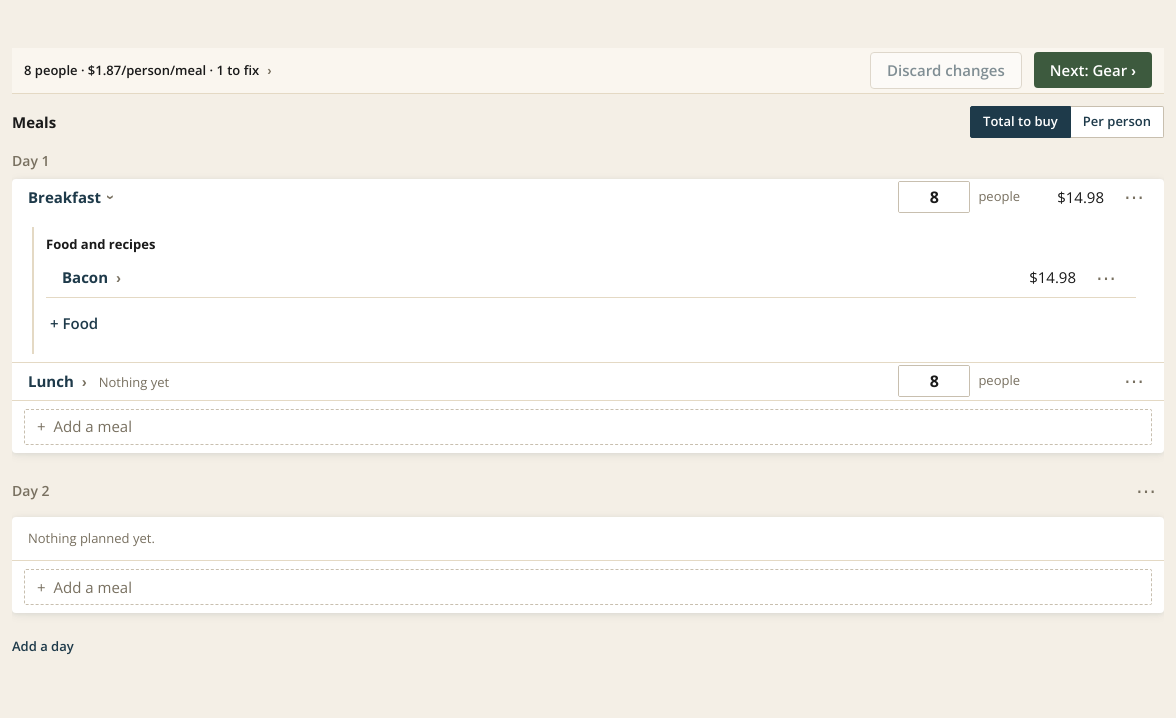
Test: MealEditor › ingredient disclosure › PerPersonView_ShowsOnePersonsAmountInTheList
The image size is (1176, 718).
Click the button "Bacon ›".
click(92, 278)  # box [62, 266, 121, 289]
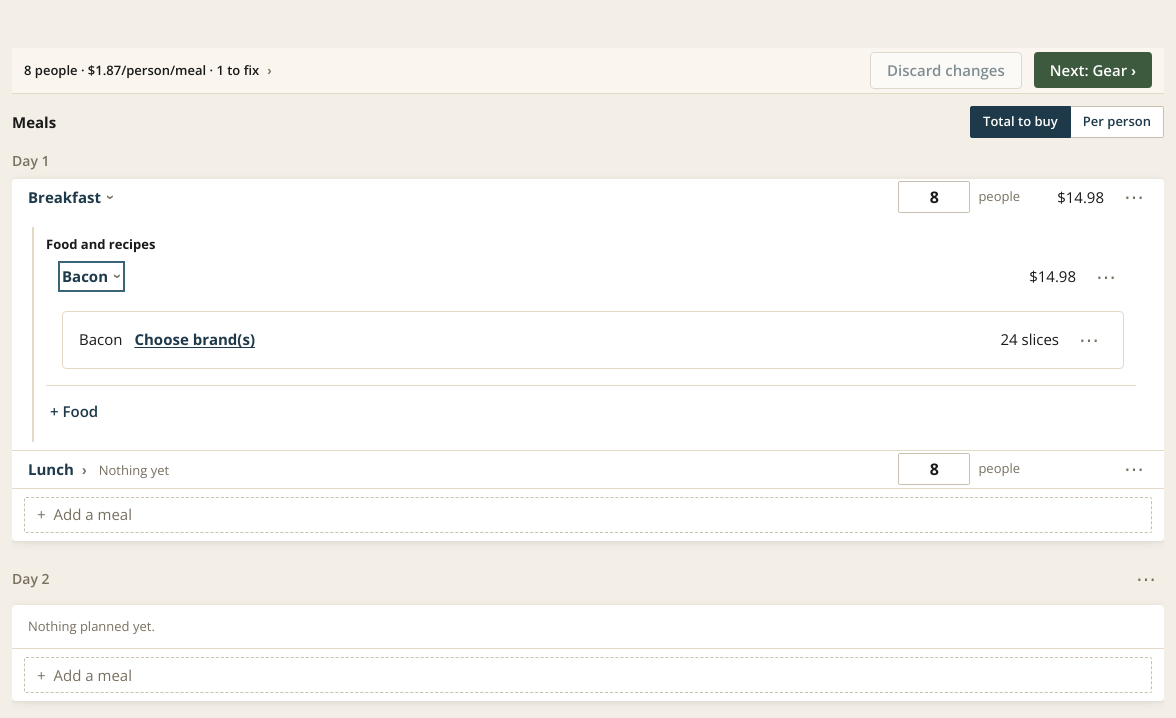
Click the button "Per person".
click(1117, 122)  # box [1071, 106, 1164, 138]
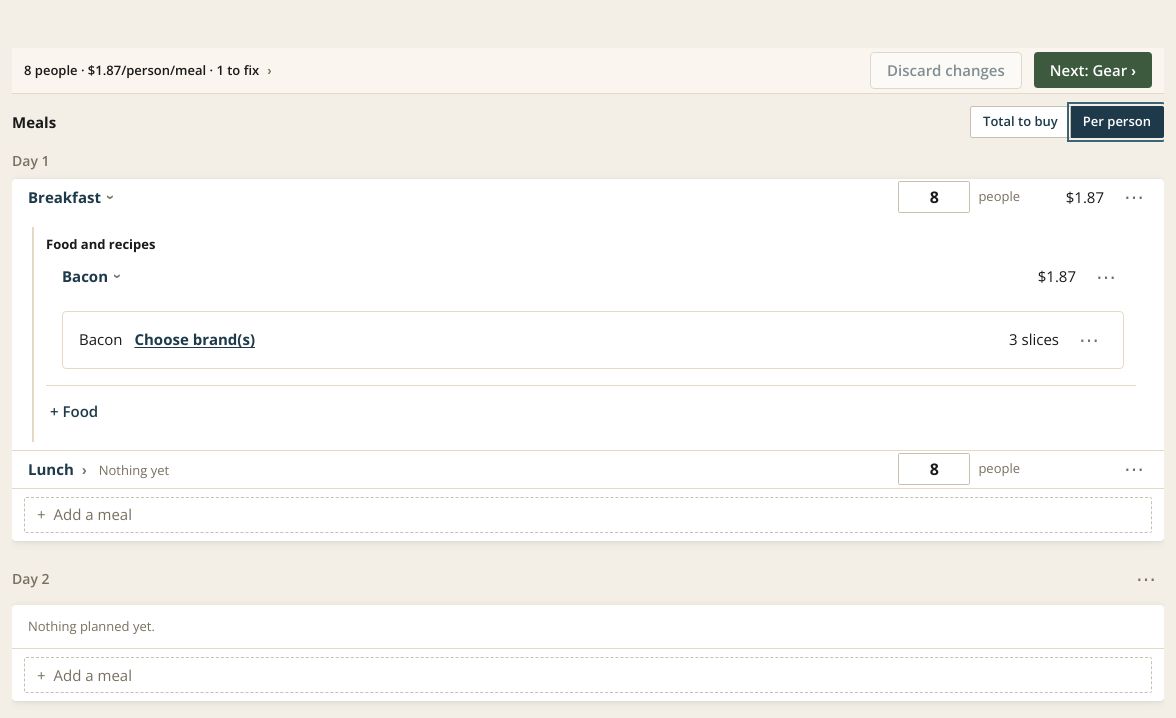
Now the text "3 slices" is shown, box [1009, 329, 1059, 349]
